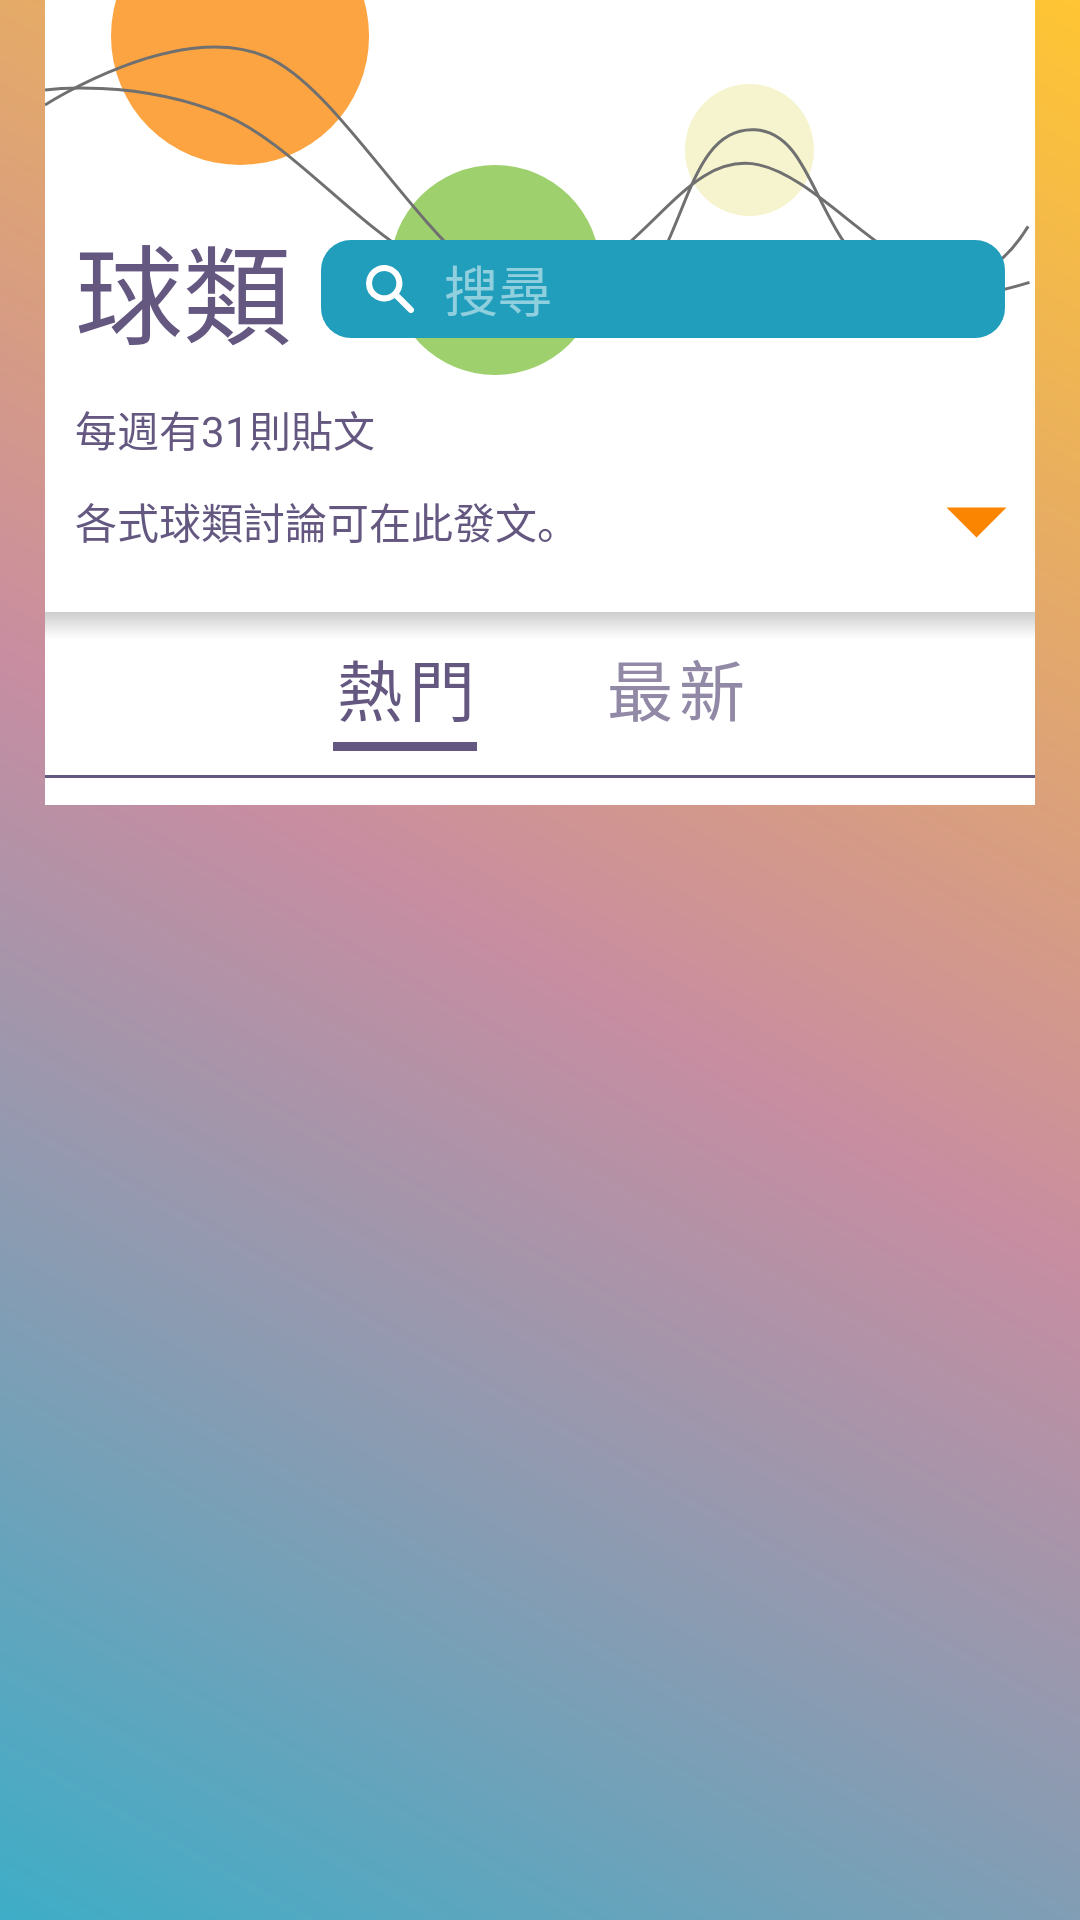

Icon bounding boxes for this 1080 x 1920 phone screenshot, format (x1, y1, x2, y2):
更多: (946, 507, 1007, 538)
